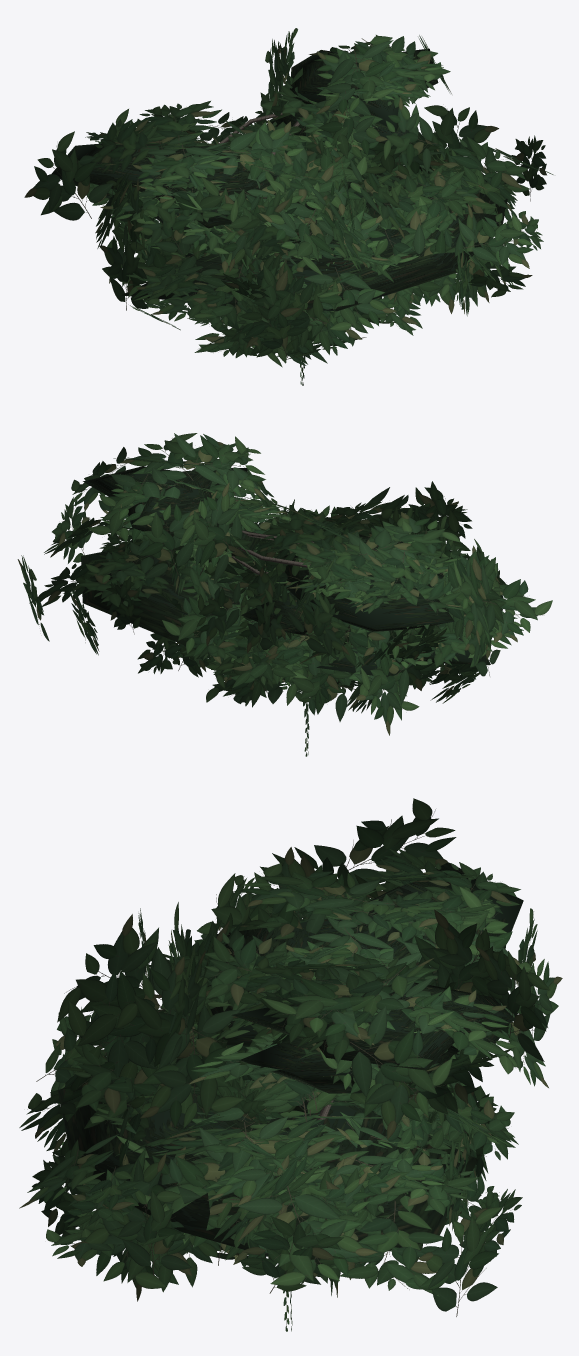
The model's file is canopy_cuyabeno_hp_LOD1.glb.
The picture shows the model from 3 angles, top to bottom: view 1: azimuth 30°, elevation 25°; view 2: azimuth 150°, elevation 25°; view 3: azimuth 270°, elevation 25°; orthographic projection. The views are drawn at different scales.
Visible parts, largest first — view 1: Canopy_Clump_Large_LOD1, Canopy_Clump_Medium_LOD1, Canopy_Clump_Small_LOD1; view 2: Canopy_Clump_Large_LOD1, Canopy_Clump_Medium_LOD1, Canopy_Clump_Small_LOD1; view 3: Canopy_Clump_Large_LOD1, Canopy_Clump_Medium_LOD1, Canopy_Clump_Small_LOD1.
Part boxes in pixels (<box>): Canopy_Clump_Large_LOD1: <box>24,28,553,367</box>; Canopy_Clump_Medium_LOD1: <box>86,83,513,355</box>; Canopy_Clump_Small_LOD1: <box>161,136,439,363</box>; Canopy_Clump_Large_LOD1: <box>17,433,552,710</box>; Canopy_Clump_Medium_LOD1: <box>119,468,500,735</box>; Canopy_Clump_Small_LOD1: <box>141,552,352,703</box>; Canopy_Clump_Large_LOD1: <box>19,798,549,1316</box>; Canopy_Clump_Medium_LOD1: <box>32,847,562,1301</box>; Canopy_Clump_Small_LOD1: <box>60,962,494,1297</box>.
Size of the model in its own units: 14.59 by 8.96 by 9.71.
Materials: 1 (1 with a texture image).
